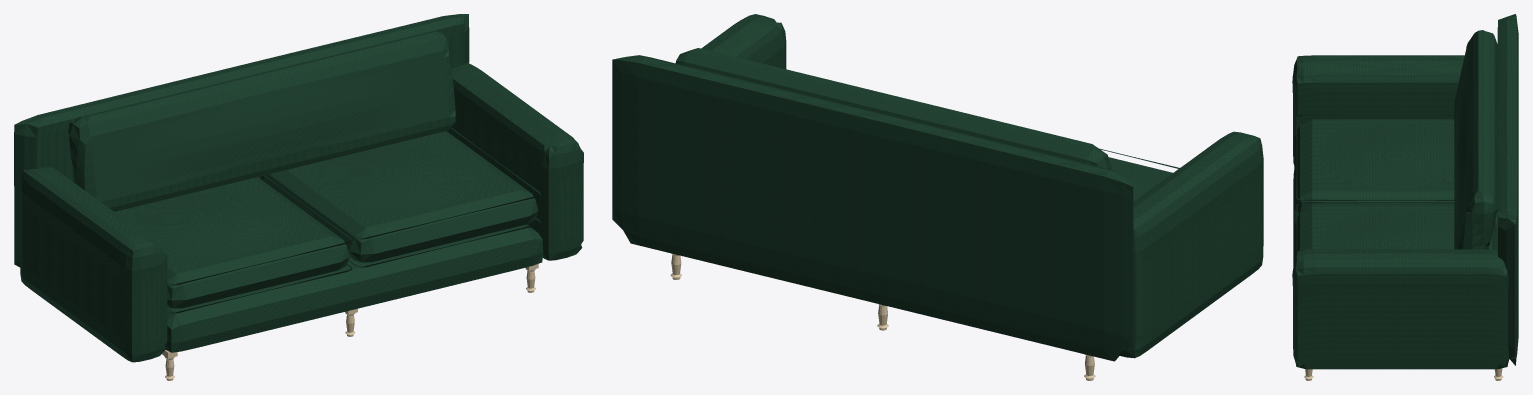
Rendered from BIB-ERA-3-seat.glb.
3 views of the same model, side by side, from view 1: azimuth 30°, elevation 25°; view 2: azimuth 150°, elevation 25°; view 3: azimuth 270°, elevation 25° (orthographic). The views are drawn at different scales.
Visible parts, largest first — view 1: inside-back:fabric:eyJwcmVzZXQiOiJ0YXJ0YW4iLCJ3YXJwIjoiZm9yZ, seat-2:fabric:eyJwcmVzZXQiOiJ0YXJ0YW4iLCJ3YXJwIjoiZm9yZXN0Ii, arm-pad-l:fabric:eyJwcmVzZXQiOiJ0YXJ0YW4iLCJ3YXJwIjoiZm9yZXN, seat-1:fabric:eyJwcmVzZXQiOiJ0YXJ0YW4iLCJ3YXJwIjoiZm9yZXN0Ii, deck:fabric:eyJwcmVzZXQiOiJ0YXJ0YW4iLCJ3YXJwIjoiZm9yZXN0Iiwi, arm-pad-r:fabric:eyJwcmVzZXQiOiJ0YXJ0YW4iLCJ3YXJwIjoiZm9yZXN, back-pad:fabric:eyJwcmVzZXQiOiJ0YXJ0YW4iLCJ3YXJwIjoiZm9yZXN0, seat-2:piping:pbr, seat-1:piping:pbr; view 2: back-pad:fabric:eyJwcmVzZXQiOiJ0YXJ0YW4iLCJ3YXJwIjoiZm9yZXN0, arm-pad-l:fabric:eyJwcmVzZXQiOiJ0YXJ0YW4iLCJ3YXJwIjoiZm9yZXN, inside-back:fabric:eyJwcmVzZXQiOiJ0YXJ0YW4iLCJ3YXJwIjoiZm9yZ, arm-pad-r:fabric:eyJwcmVzZXQiOiJ0YXJ0YW4iLCJ3YXJwIjoiZm9yZXN, seat-1:fabric:eyJwcmVzZXQiOiJ0YXJ0YW4iLCJ3YXJwIjoiZm9yZXN0Ii; view 3: arm-pad-r:fabric:eyJwcmVzZXQiOiJ0YXJ0YW4iLCJ3YXJwIjoiZm9yZXN, seat-1:fabric:eyJwcmVzZXQiOiJ0YXJ0YW4iLCJ3YXJwIjoiZm9yZXN0Ii, arm-pad-l:fabric:eyJwcmVzZXQiOiJ0YXJ0YW4iLCJ3YXJwIjoiZm9yZXN, inside-back:fabric:eyJwcmVzZXQiOiJ0YXJ0YW4iLCJ3YXJwIjoiZm9yZ, seat-2:fabric:eyJwcmVzZXQiOiJ0YXJ0YW4iLCJ3YXJwIjoiZm9yZXN0Ii, back-pad:fabric:eyJwcmVzZXQiOiJ0YXJ0YW4iLCJ3YXJwIjoiZm9yZXN0, seat-1:piping:pbr, seat-2:piping:pbr, deck:fabric:eyJwcmVzZXQiOiJ0YXJ0YW4iLCJ3YXJwIjoiZm9yZXN0Iiwi.
Part boxes in pixels (<box>): inside-back:fabric:eyJwcmVzZXQiOiJ0YXJ0YW4iLCJ3YXJwIjoiZm9yZ: <box>68,31,455,211</box>; seat-2:fabric:eyJwcmVzZXQiOiJ0YXJ0YW4iLCJ3YXJwIjoiZm9yZXN0Ii: <box>260,131,538,262</box>; arm-pad-l:fabric:eyJwcmVzZXQiOiJ0YXJ0YW4iLCJ3YXJwIjoiZm9yZXN: <box>20,167,167,362</box>; seat-1:fabric:eyJwcmVzZXQiOiJ0YXJ0YW4iLCJ3YXJwIjoiZm9yZXN0Ii: <box>115,177,349,308</box>; deck:fabric:eyJwcmVzZXQiOiJ0YXJ0YW4iLCJ3YXJwIjoiZm9yZXN0Iiwi: <box>164,224,543,352</box>; arm-pad-r:fabric:eyJwcmVzZXQiOiJ0YXJ0YW4iLCJ3YXJwIjoiZm9yZXN: <box>447,63,583,260</box>; back-pad:fabric:eyJwcmVzZXQiOiJ0YXJ0YW4iLCJ3YXJwIjoiZm9yZXN0: <box>14,14,469,267</box>; seat-2:piping:pbr: <box>269,128,540,267</box>; seat-1:piping:pbr: <box>167,175,352,313</box>; back-pad:fabric:eyJwcmVzZXQiOiJ0YXJ0YW4iLCJ3YXJwIjoiZm9yZXN0: <box>612,55,1133,361</box>; arm-pad-l:fabric:eyJwcmVzZXQiOiJ0YXJ0YW4iLCJ3YXJwIjoiZm9yZXN: <box>1120,131,1263,358</box>; inside-back:fabric:eyJwcmVzZXQiOiJ0YXJ0YW4iLCJ3YXJwIjoiZm9yZ: <box>675,48,1111,169</box>; arm-pad-r:fabric:eyJwcmVzZXQiOiJ0YXJ0YW4iLCJ3YXJwIjoiZm9yZXN: <box>701,14,786,68</box>; seat-1:fabric:eyJwcmVzZXQiOiJ0YXJ0YW4iLCJ3YXJwIjoiZm9yZXN0Ii: <box>1108,157,1172,201</box>; arm-pad-r:fabric:eyJwcmVzZXQiOiJ0YXJ0YW4iLCJ3YXJwIjoiZm9yZXN: <box>1292,249,1509,369</box>; seat-1:fabric:eyJwcmVzZXQiOiJ0YXJ0YW4iLCJ3YXJwIjoiZm9yZXN0Ii: <box>1294,119,1454,215</box>; arm-pad-l:fabric:eyJwcmVzZXQiOiJ0YXJ0YW4iLCJ3YXJwIjoiZm9yZXN: <box>1292,55,1464,164</box>; inside-back:fabric:eyJwcmVzZXQiOiJ0YXJ0YW4iLCJ3YXJwIjoiZm9yZ: <box>1454,30,1497,249</box>; seat-2:fabric:eyJwcmVzZXQiOiJ0YXJ0YW4iLCJ3YXJwIjoiZm9yZXN0Ii: <box>1294,206,1497,260</box>; back-pad:fabric:eyJwcmVzZXQiOiJ0YXJ0YW4iLCJ3YXJwIjoiZm9yZXN0: <box>1497,14,1518,365</box>; seat-1:piping:pbr: <box>1296,114,1495,220</box>; seat-2:piping:pbr: <box>1296,202,1495,253</box>; deck:fabric:eyJwcmVzZXQiOiJ0YXJ0YW4iLCJ3YXJwIjoiZm9yZXN0Iiwi: <box>1293,170,1497,265</box>.
Size of the model in its own units: 2.1 by 0.86 by 0.95.
Materials: 15 (7 with a texture image).
